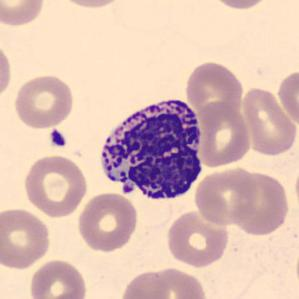Basophil: (94, 90, 208, 207)
Platelets: (47, 128, 68, 150)
RBC: (20, 152, 90, 218), (229, 168, 292, 238), (239, 85, 297, 157), (193, 165, 261, 226), (76, 190, 140, 254), (164, 208, 230, 269), (195, 101, 253, 169), (183, 59, 245, 120), (11, 72, 76, 130), (0, 205, 53, 271), (27, 257, 89, 299), (143, 265, 209, 298), (118, 268, 172, 299), (276, 67, 298, 128), (0, 0, 47, 28), (0, 39, 14, 103), (207, 0, 273, 12), (53, 0, 129, 10), (293, 159, 299, 221), (294, 237, 299, 297)
